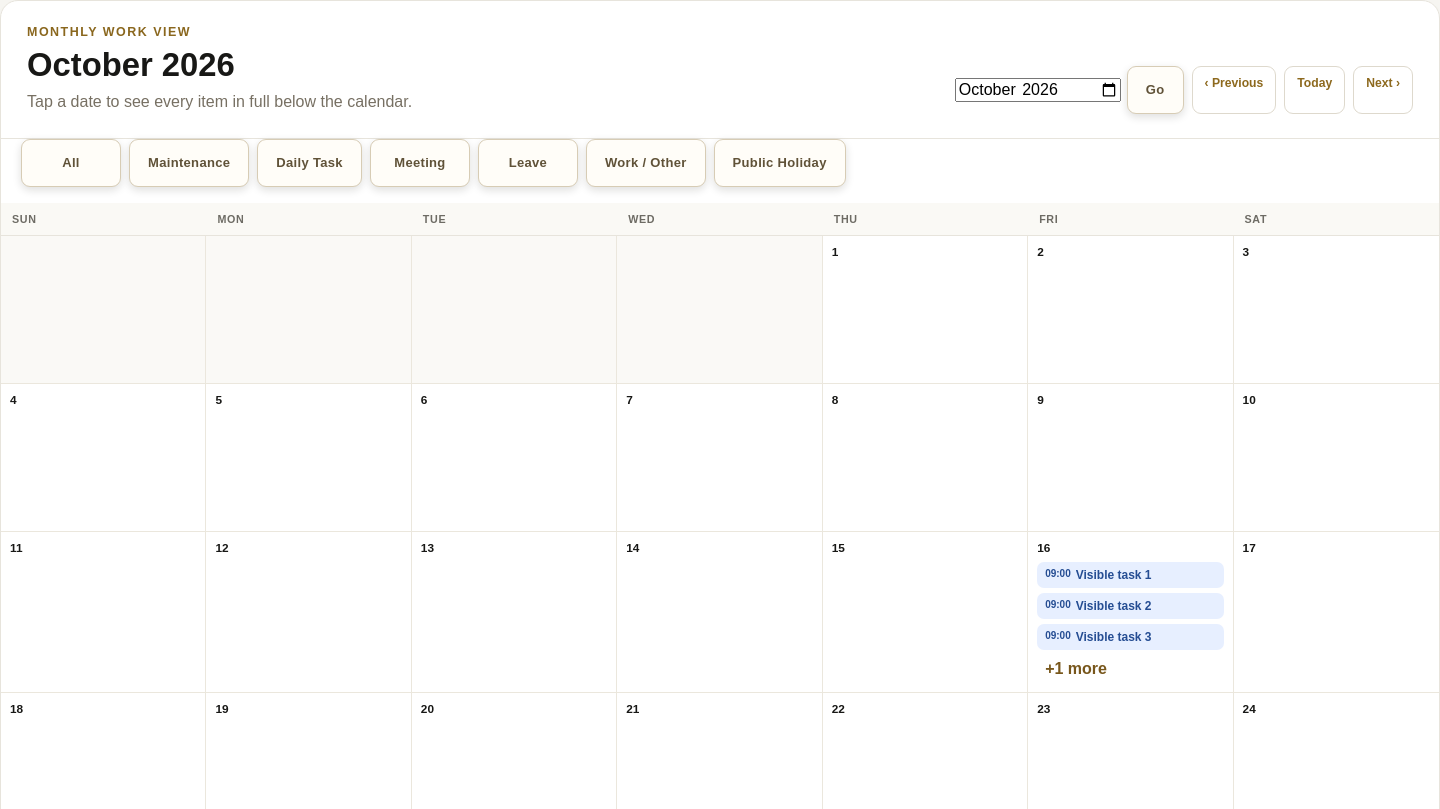
Scenario: makes the +more result visible with the actual desktop stylesheet
The image size is (1440, 809).
What coordinates should you click on to do the following:
click the button with aria-label "Show all 4 items"
I would click on:
 (1130, 669)
Its box is [1037,655,1224,683].
(page scrolled)
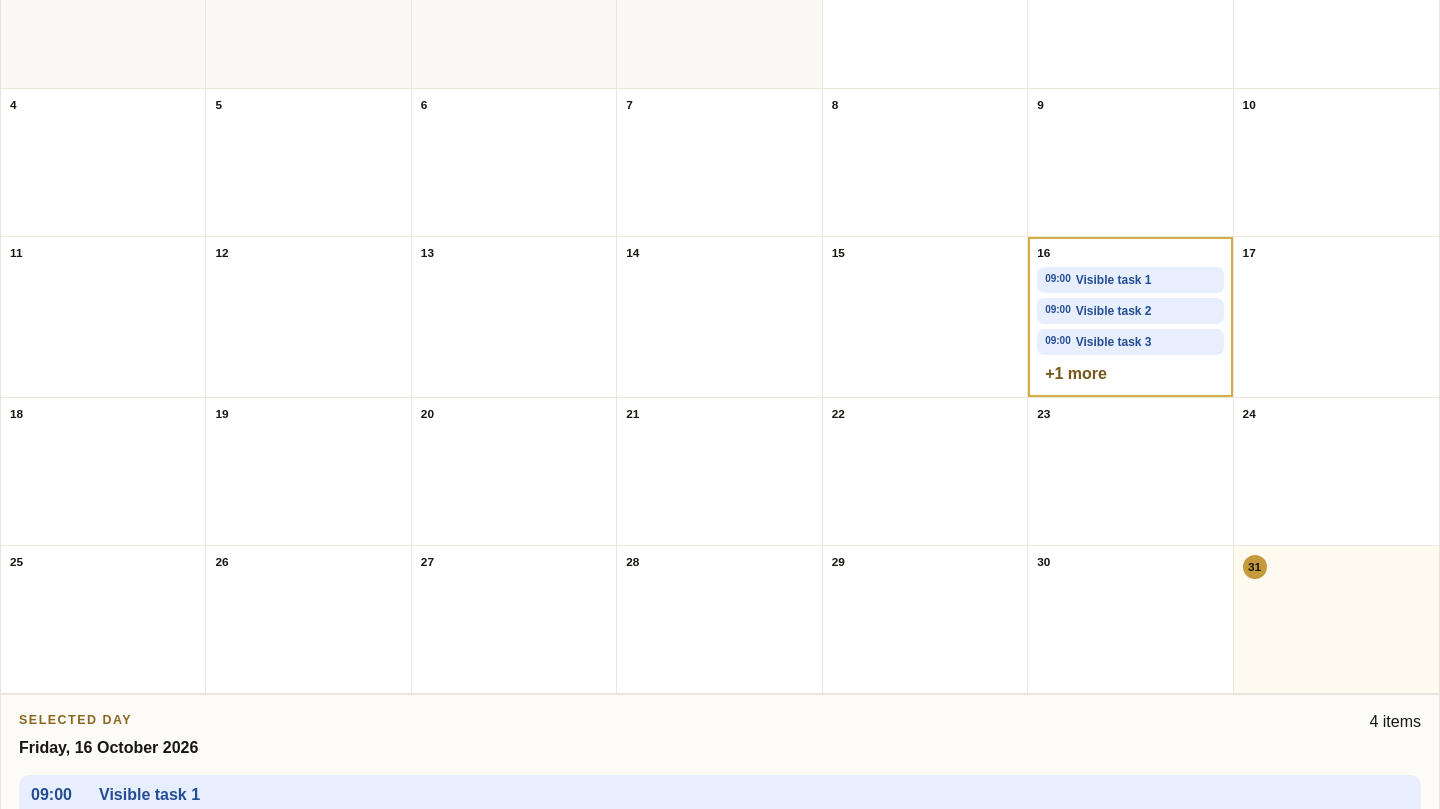
Result: the number of elements with class "calendar-day-detail" is 4
